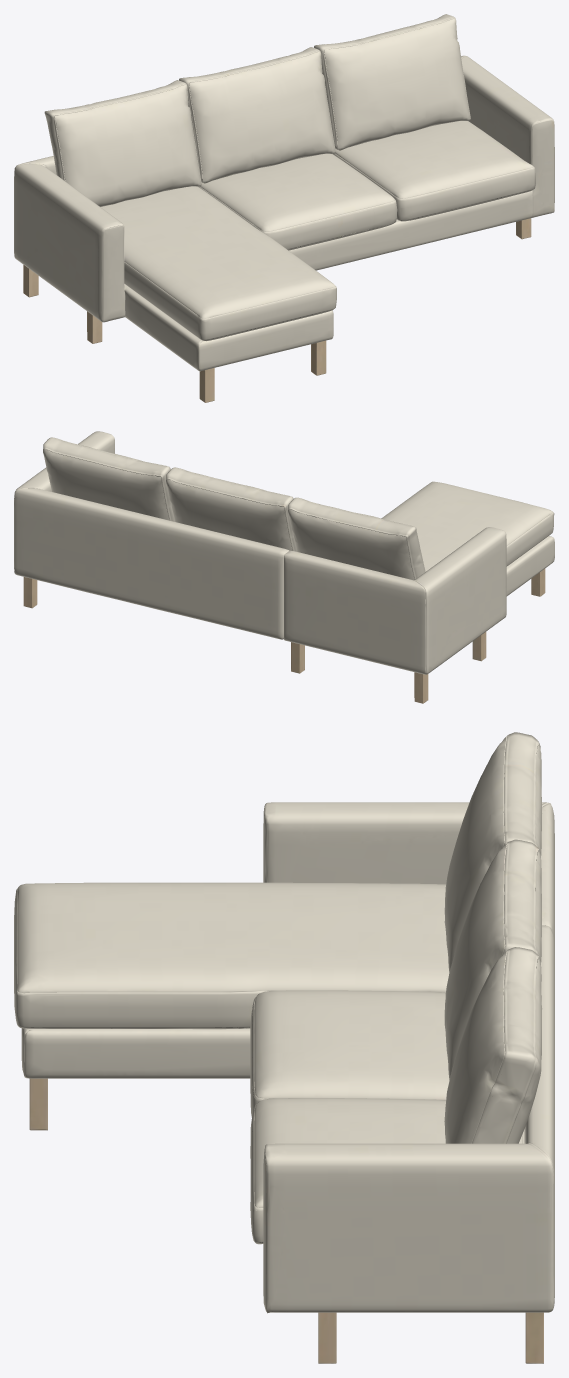
Rendered from saltsjobaden_sofa_3_osobowa_z_szezlongiem_39602142.glb.
The picture shows the model from 3 angles, top to bottom: view 1: azimuth 30°, elevation 25°; view 2: azimuth 150°, elevation 25°; view 3: azimuth 270°, elevation 25°; orthographic projection. The views are drawn at different scales.
Visible parts, largest first — view 1: saltsjobaden_sofa_3_osobowa_z_szezlongiem_39602142; view 2: saltsjobaden_sofa_3_osobowa_z_szezlongiem_39602142; view 3: saltsjobaden_sofa_3_osobowa_z_szezlongiem_39602142.
Boxes of the visible parts, x1,y1,x2,y2 form: saltsjobaden_sofa_3_osobowa_z_szezlongiem_39602142: [14, 14, 554, 402]; saltsjobaden_sofa_3_osobowa_z_szezlongiem_39602142: [14, 431, 554, 703]; saltsjobaden_sofa_3_osobowa_z_szezlongiem_39602142: [14, 732, 554, 1363].
Bounding box in the file's own units: 2.34 × 0.9005 × 1.48.
Materials: 1 (1 with a texture image).
